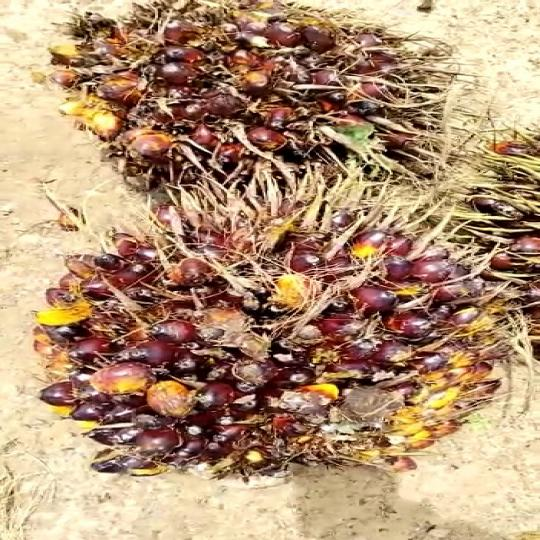masak: (35, 176, 540, 474), (35, 2, 517, 187)
